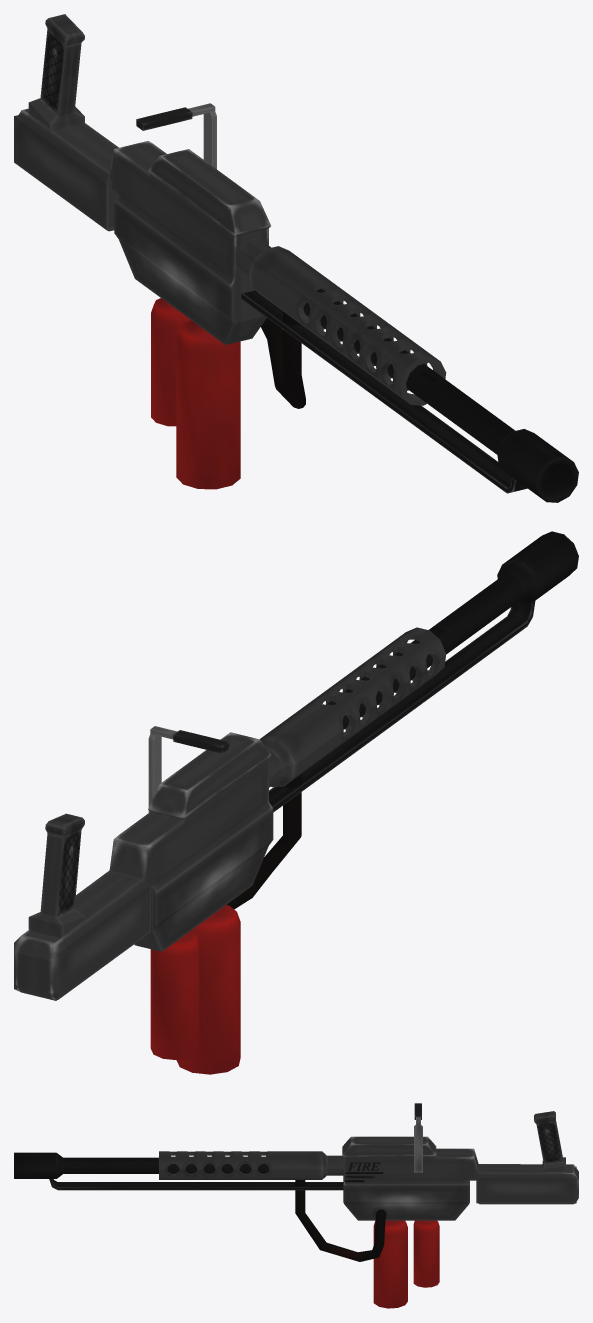
Rendered from flame-thrower.glb.
The picture shows the model from 3 angles, top to bottom: view 1: azimuth 30°, elevation 25°; view 2: azimuth 150°, elevation 25°; view 3: azimuth 270°, elevation 25°; orthographic projection. The views are drawn at different scales.
Parts seen in each view (by area): view 1: Object_4, Object_3, Object_2; view 2: Object_4, Object_3, Object_2; view 3: Object_4, Object_3, Object_2.
Boxes of the visible parts, left/top/right/bottom form: Object_4: left=14, top=14, right=578, bottom=502; Object_3: left=151, top=298, right=240, bottom=489; Object_2: left=261, top=311, right=305, bottom=408; Object_4: left=14, top=531, right=578, bottom=1000; Object_3: left=150, top=905, right=240, bottom=1074; Object_2: left=226, top=774, right=301, bottom=909; Object_4: left=14, top=1103, right=578, bottom=1220; Object_3: left=373, top=1220, right=439, bottom=1308; Object_2: left=295, top=1180, right=386, bottom=1261.
Size of the model in its own units: 131 by 405 by 1102.
3 materials, 3 textured.
